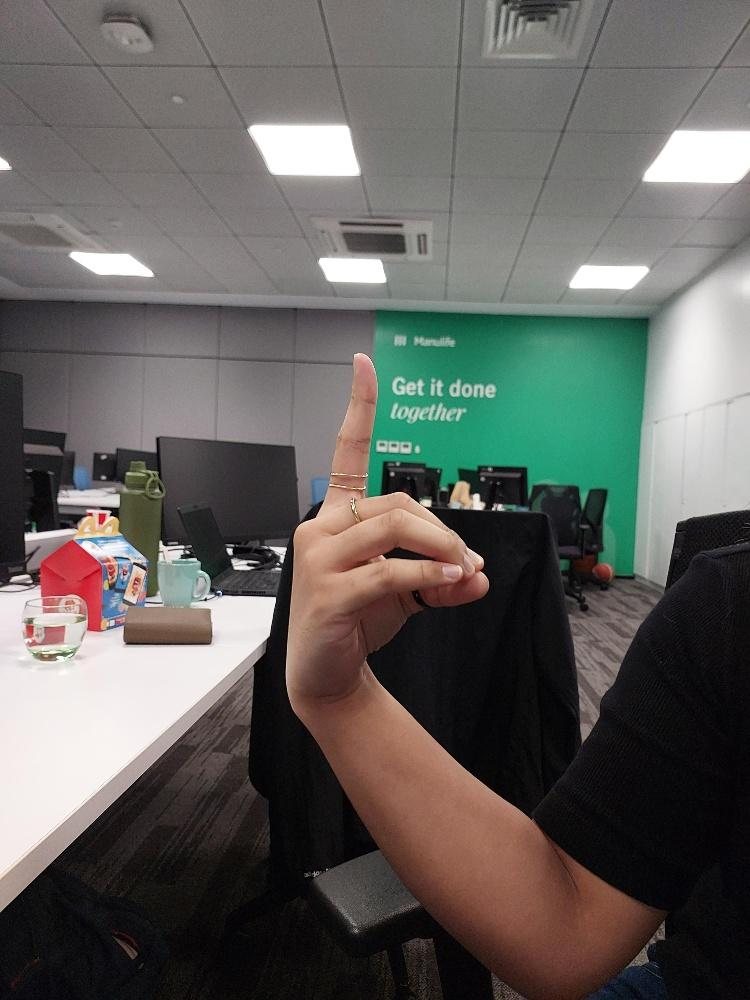d: (283, 348, 491, 705)
